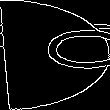O_W: (4, 32, 106, 78)
